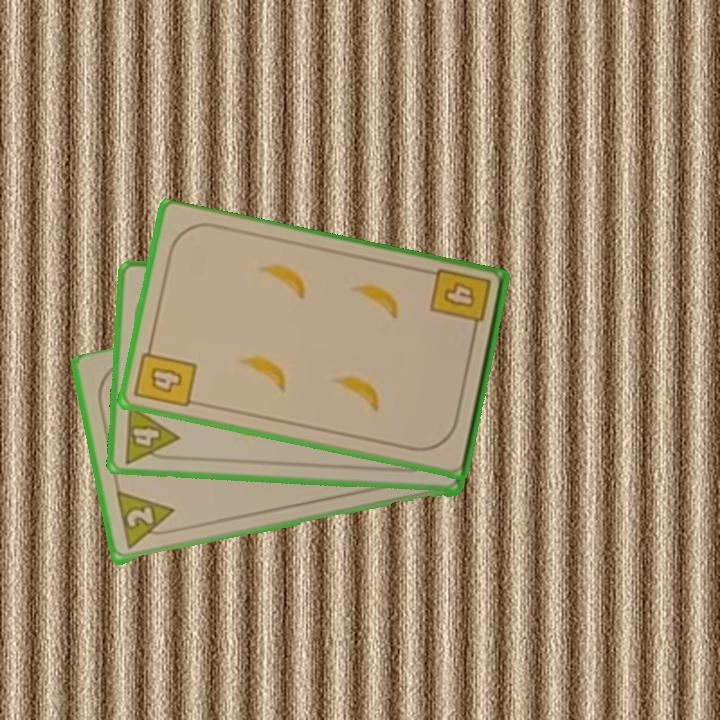2p: (112, 489, 180, 553)
4b: (131, 339, 200, 411), (426, 266, 494, 339)
4p: (120, 401, 181, 466)
